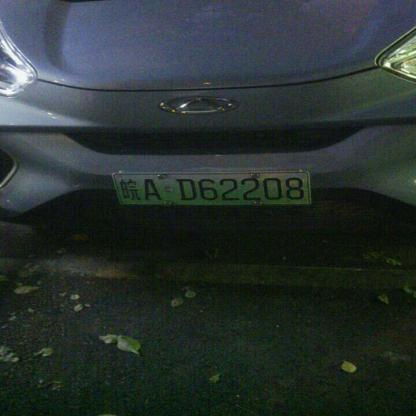lp: (112, 170, 310, 206)
